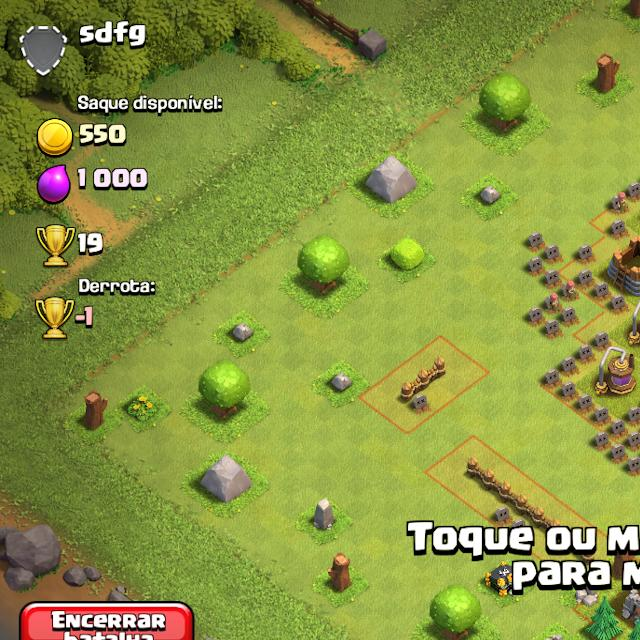ValueCoin: (76, 116, 134, 156)
ValueElixir: (72, 163, 154, 196)
